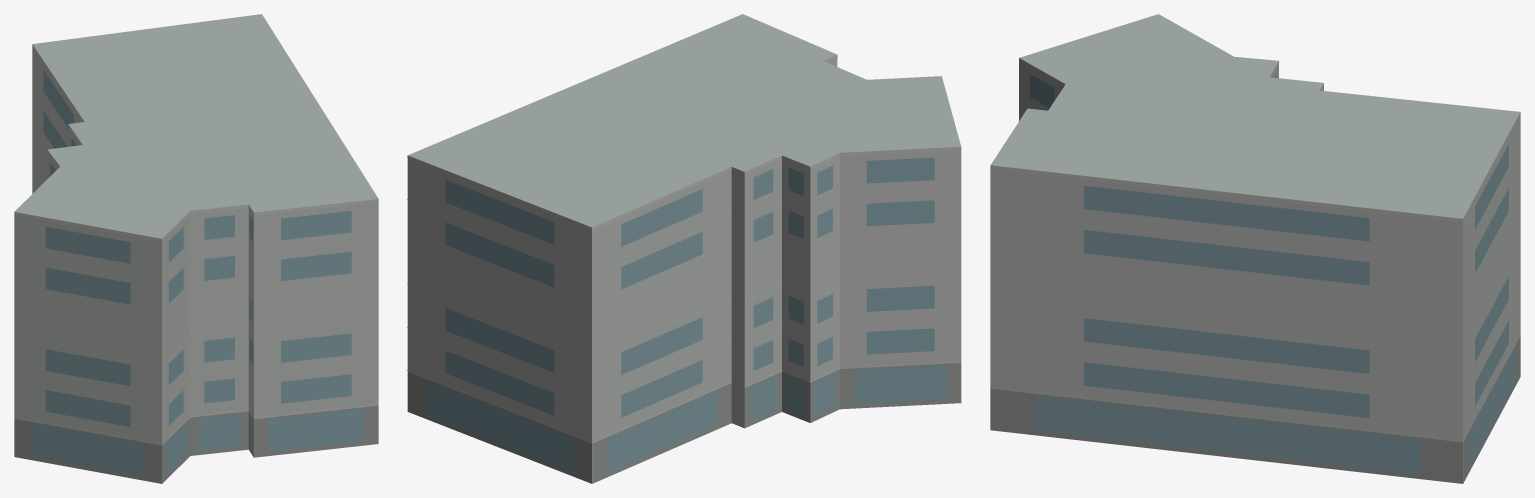
The model's file is survey-upis-32808153.glb.
3 views of the same model, side by side, from view 1: azimuth 30°, elevation 25°; view 2: azimuth 150°, elevation 25°; view 3: azimuth 270°, elevation 25° (orthographic). The views are drawn at different scales.
Visible parts, largest first — view 1: survey-upis-32808153.tmp; view 2: survey-upis-32808153.tmp; view 3: survey-upis-32808153.tmp.
Boxes of the visible parts, x1,y1,x2,y2 form: survey-upis-32808153.tmp: [14, 14, 378, 483]; survey-upis-32808153.tmp: [407, 14, 961, 483]; survey-upis-32808153.tmp: [990, 14, 1520, 483].
Size of the model in its own units: 27.47 by 16.55 by 30.03.
